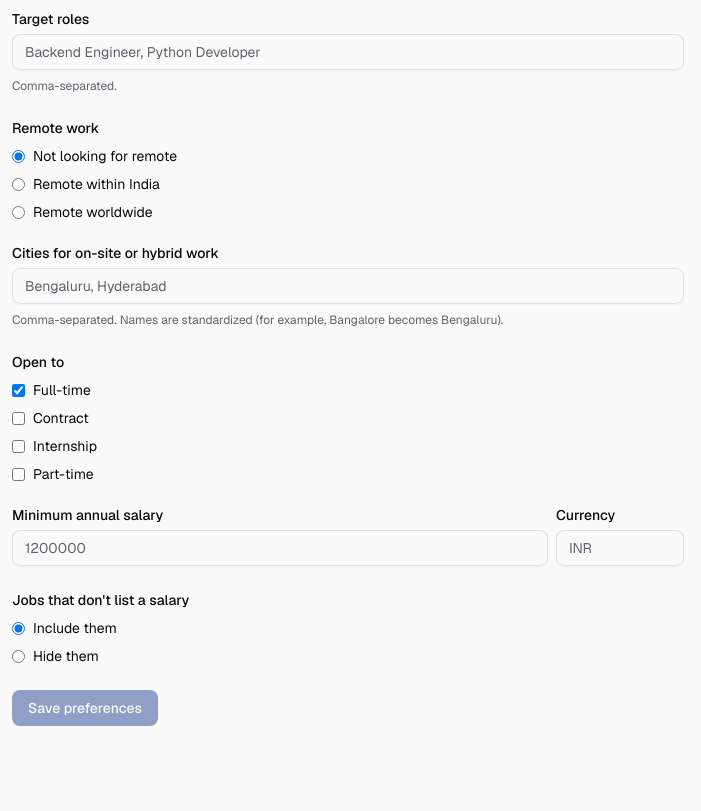
PreferencesForm › rejects a non-numeric salary
The width and height of the screenshot is (701, 811).
Type "12 LPA" into the field labelled "Minimum annual salary". click: (280, 548)
box: [12,530,548,566]
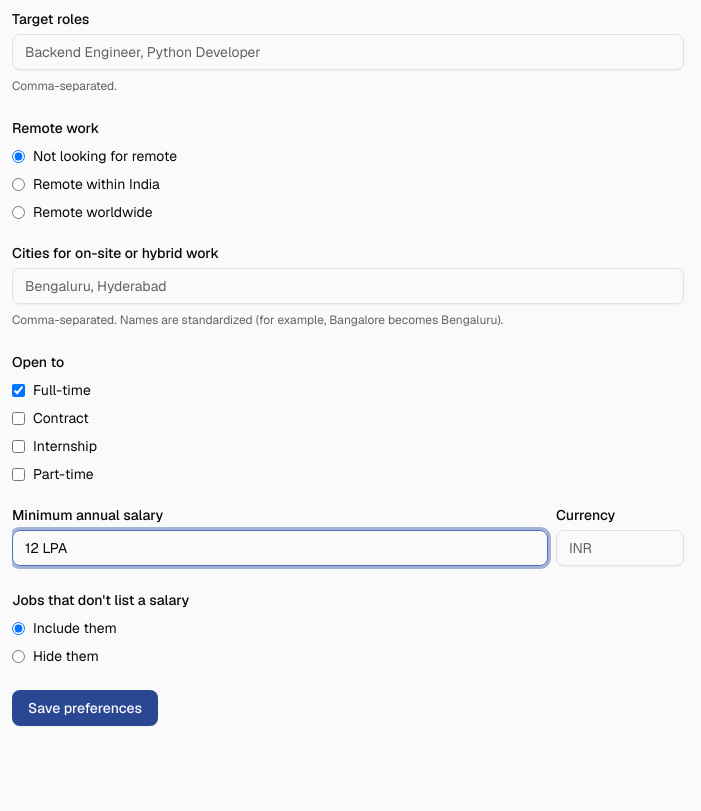
Click the button "Save preferences". click: click(85, 708)
box: [12,690,158,726]
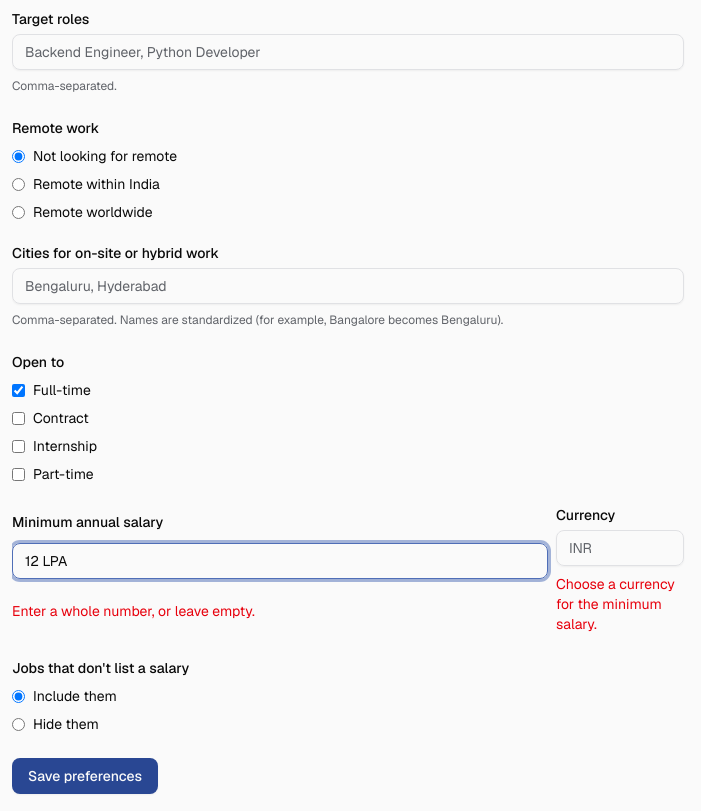
Expected: the text "Enter a whole number, or leave empty." is shown, [12,602,255,620]
